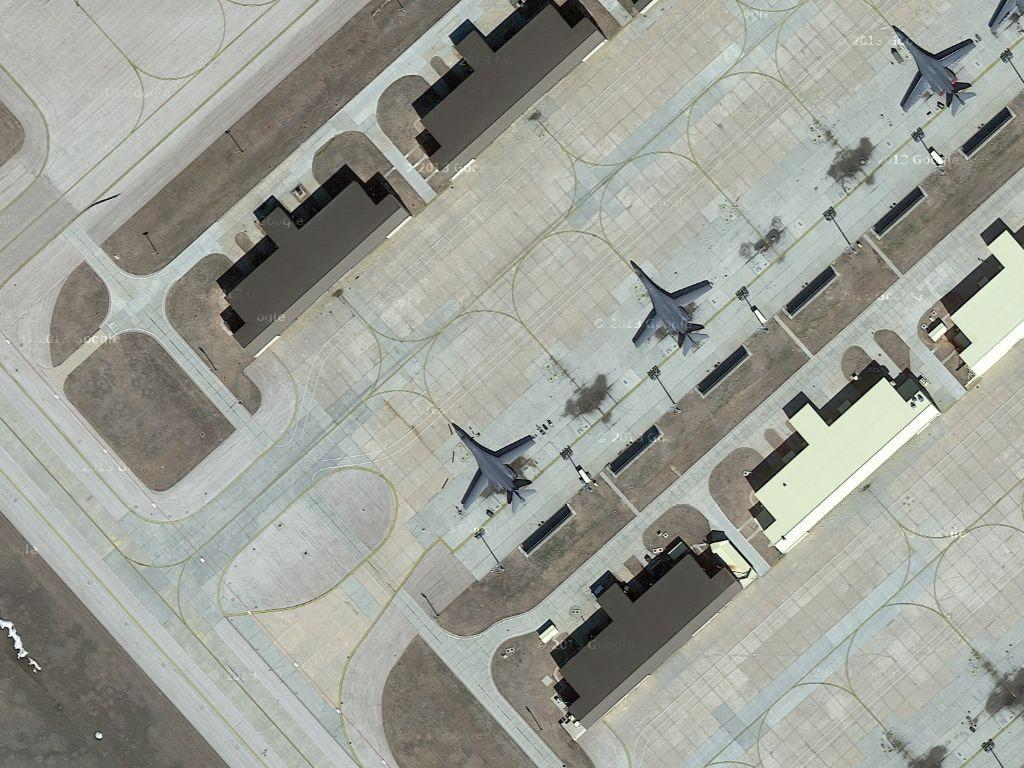B-1B: (888, 21, 980, 116), (628, 261, 716, 352), (448, 422, 539, 509)
